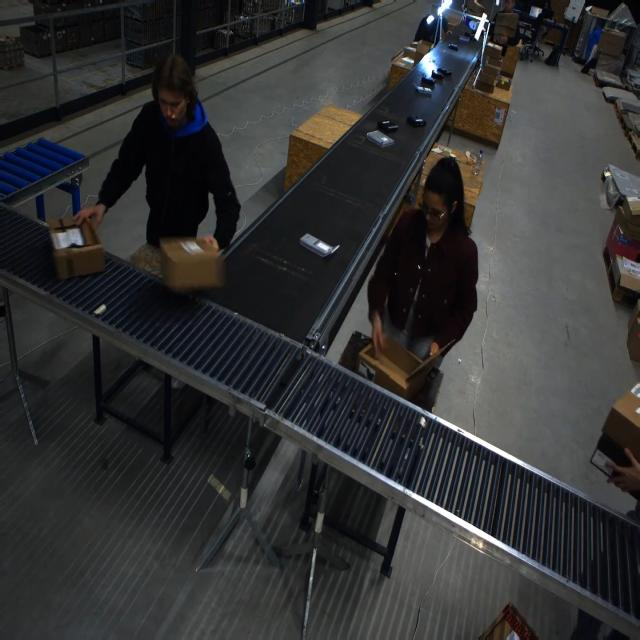box: (360, 333, 438, 402), (593, 392, 639, 485), (159, 237, 224, 292), (48, 217, 105, 278), (493, 12, 518, 41)
product: (299, 233, 339, 257), (366, 130, 394, 148), (377, 120, 396, 132), (407, 116, 426, 127), (414, 85, 433, 96), (420, 75, 434, 86), (436, 67, 451, 76), (431, 70, 443, 79), (458, 36, 471, 43), (448, 43, 459, 51)
